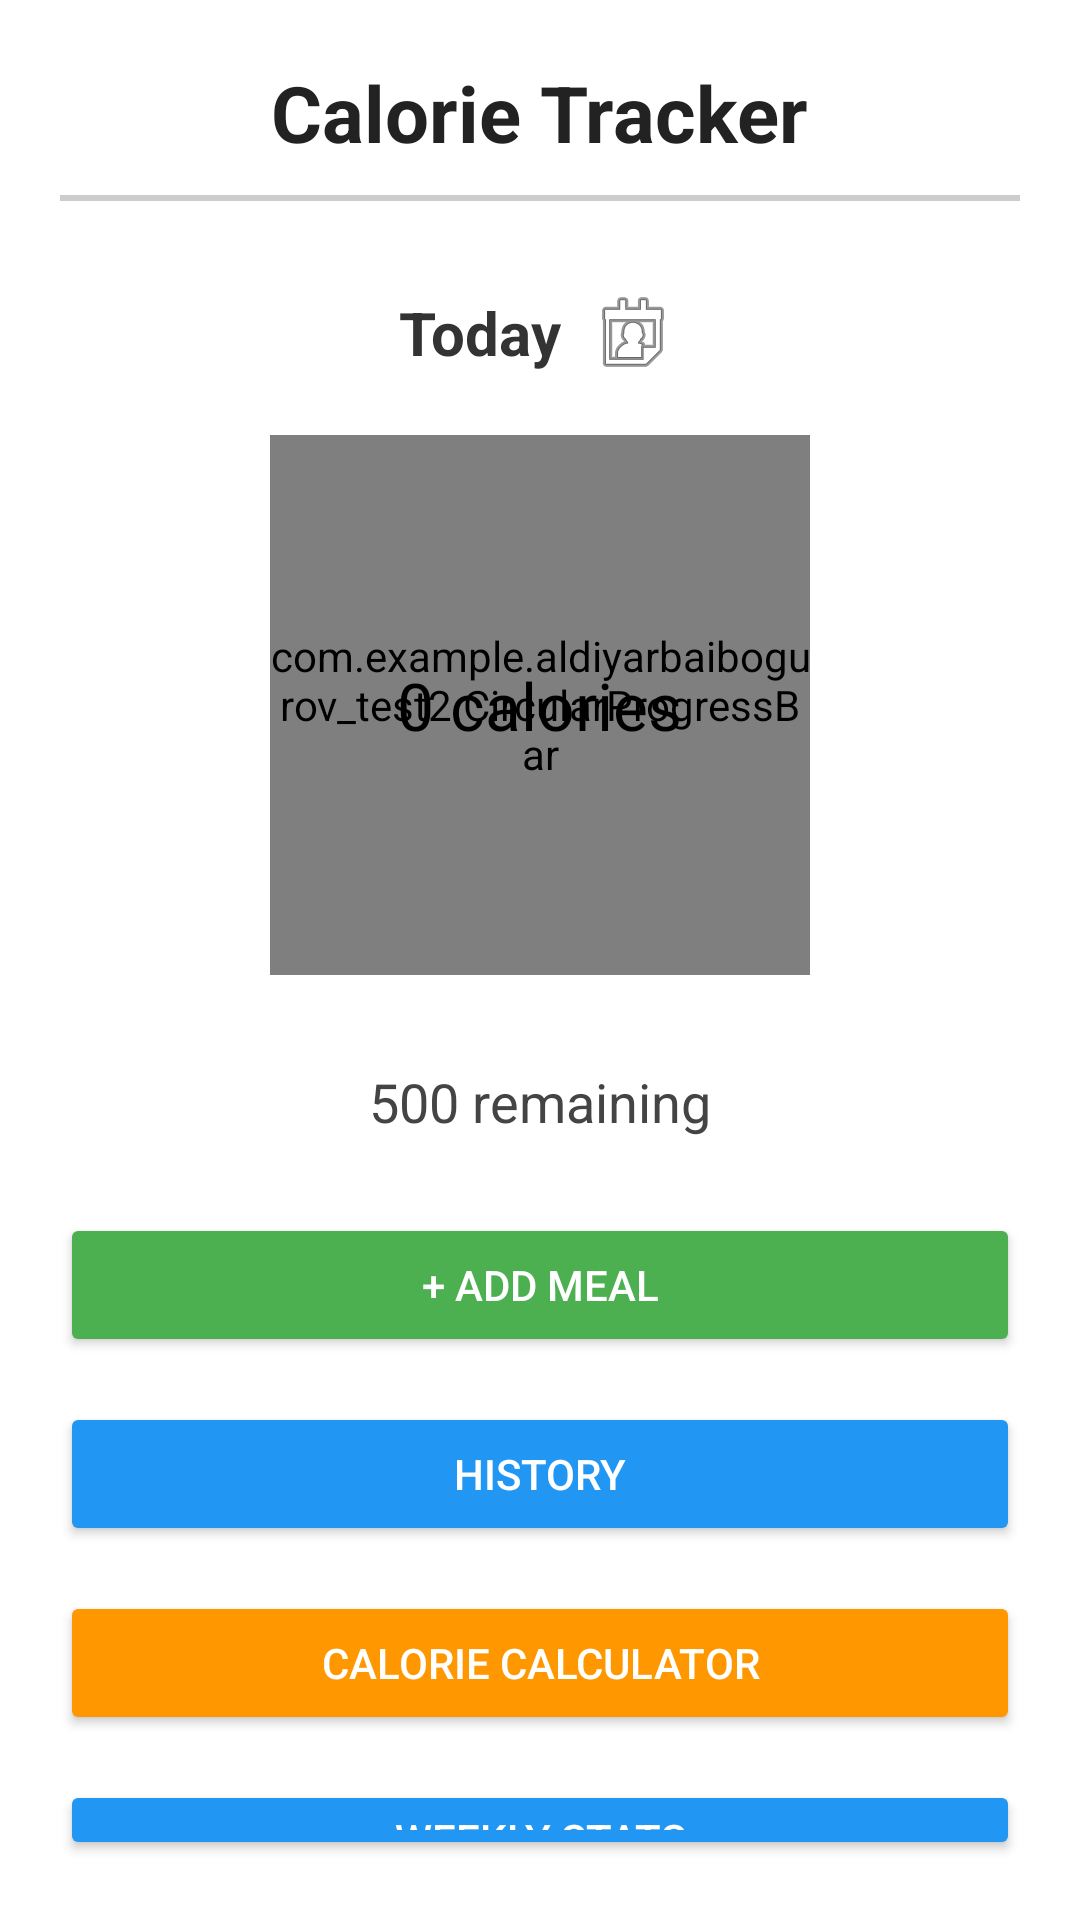

Screen size 1080×1920. Icon name, then its center in pixels as (x,y):
calendar: (633,332)
